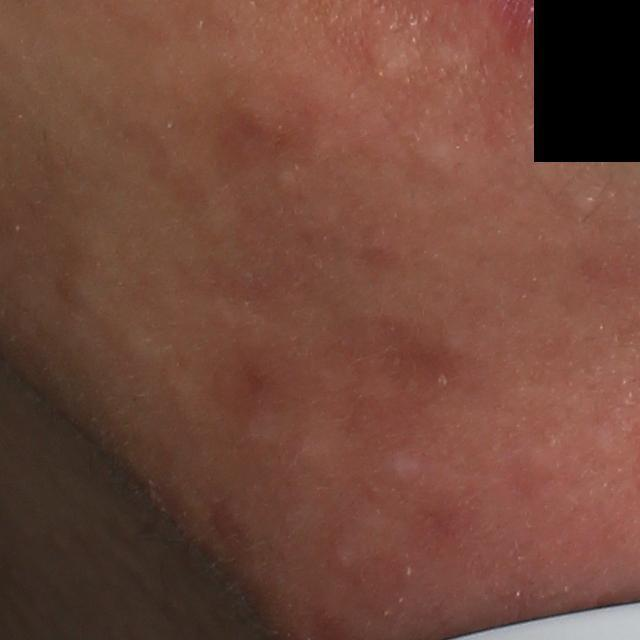comedo: (570, 191, 608, 219)
hypertrophic_scar: (326, 508, 403, 569), (401, 119, 468, 187), (245, 416, 358, 452), (367, 27, 429, 91), (383, 439, 424, 492)
